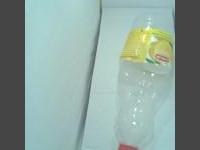bottle: (112, 14, 175, 150)
